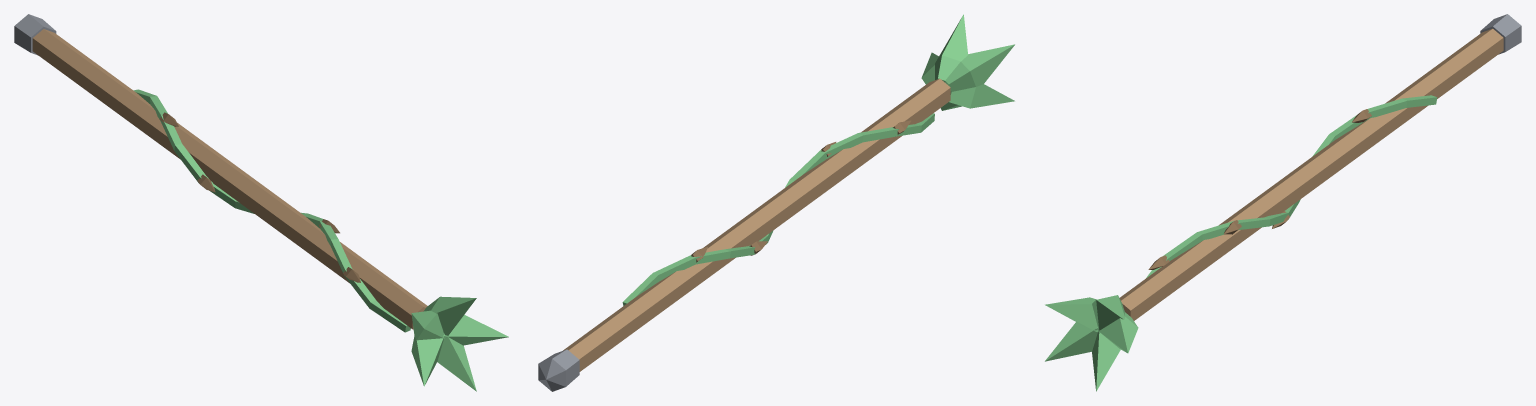
File: thornstave.glb
3 renders of one model, left to right at view 1: azimuth 30°, elevation 25°; view 2: azimuth 150°, elevation 25°; view 3: azimuth 330°, elevation 25°, orthographic.
Visible parts, largest first — view 1: thornstave; view 2: thornstave; view 3: thornstave.
Boxes of the visible parts, x1=… form: thornstave: x1=14, y1=14, x2=508, y2=391; thornstave: x1=538, y1=14, x2=1014, y2=391; thornstave: x1=1045, y1=14, x2=1521, y2=391.
Bounding box in the file's own units: 0.1621 × 0.1705 × 1.45.
